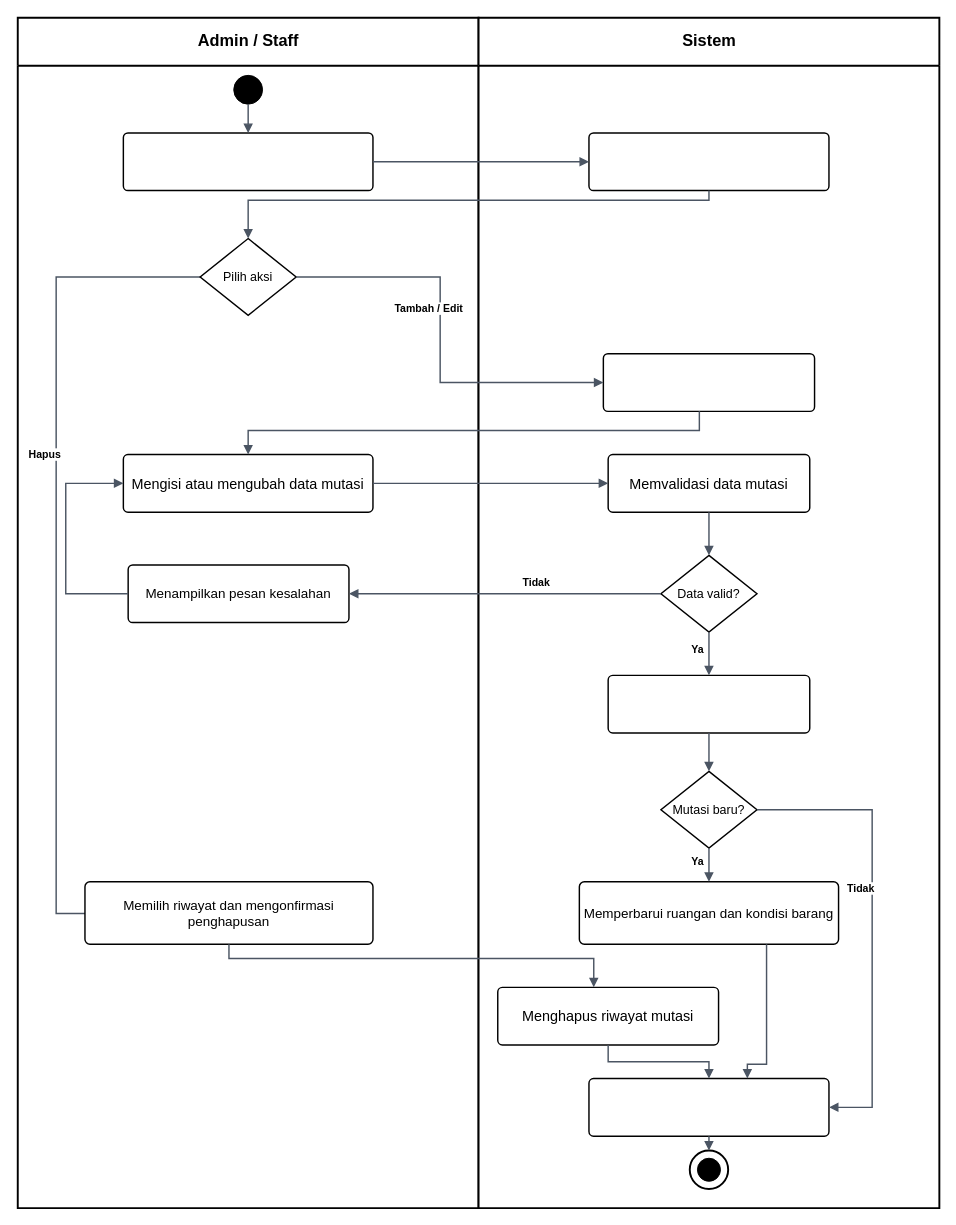
Some shapes in this 956 by 1225 pixel diagram are drawn without their labels. Here are the shapes that lost their labels. From the top down, the centre of each, then its label:
(247,161): Membuka menu Mutasi Barang
(708,161): Menampilkan daftar mutasi barang
(708,382): Menampilkan formulir mutasi
(708,703): Menyimpan data mutasi
(708,1106): Memperbarui daftar mutasi barang
